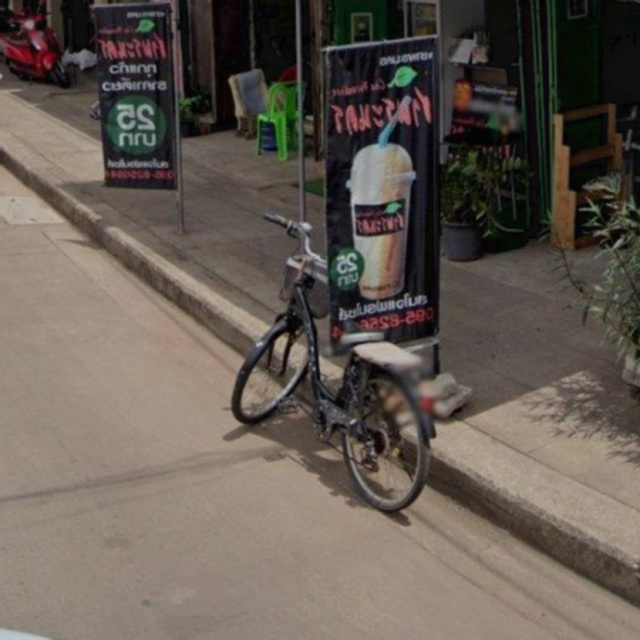bicycle: (212, 204, 460, 520)
